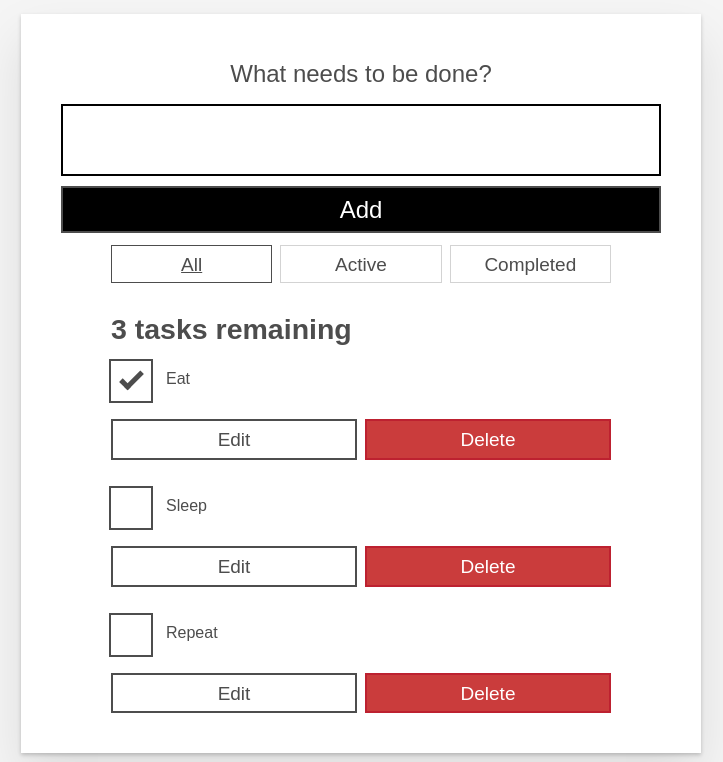
Test case: todo management › filtering › allows to show completed tasks
Click the button "Completed" at (531, 265), box [450,245,611,284]
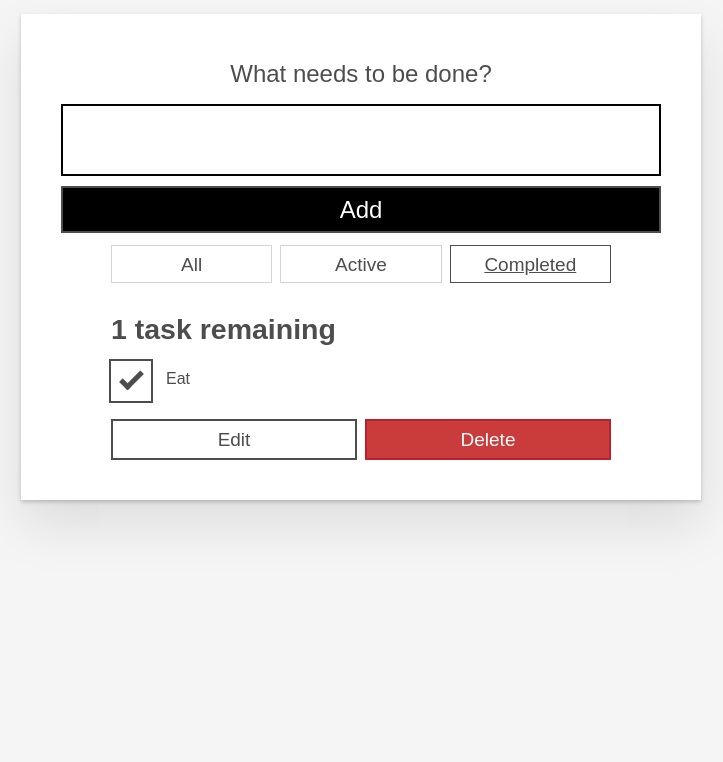
Expected: the list item with class "todo" shows "Eat", [111,361,611,460]
Result: the number of list items with class "todo" is 1 at [111,361,611,460]
